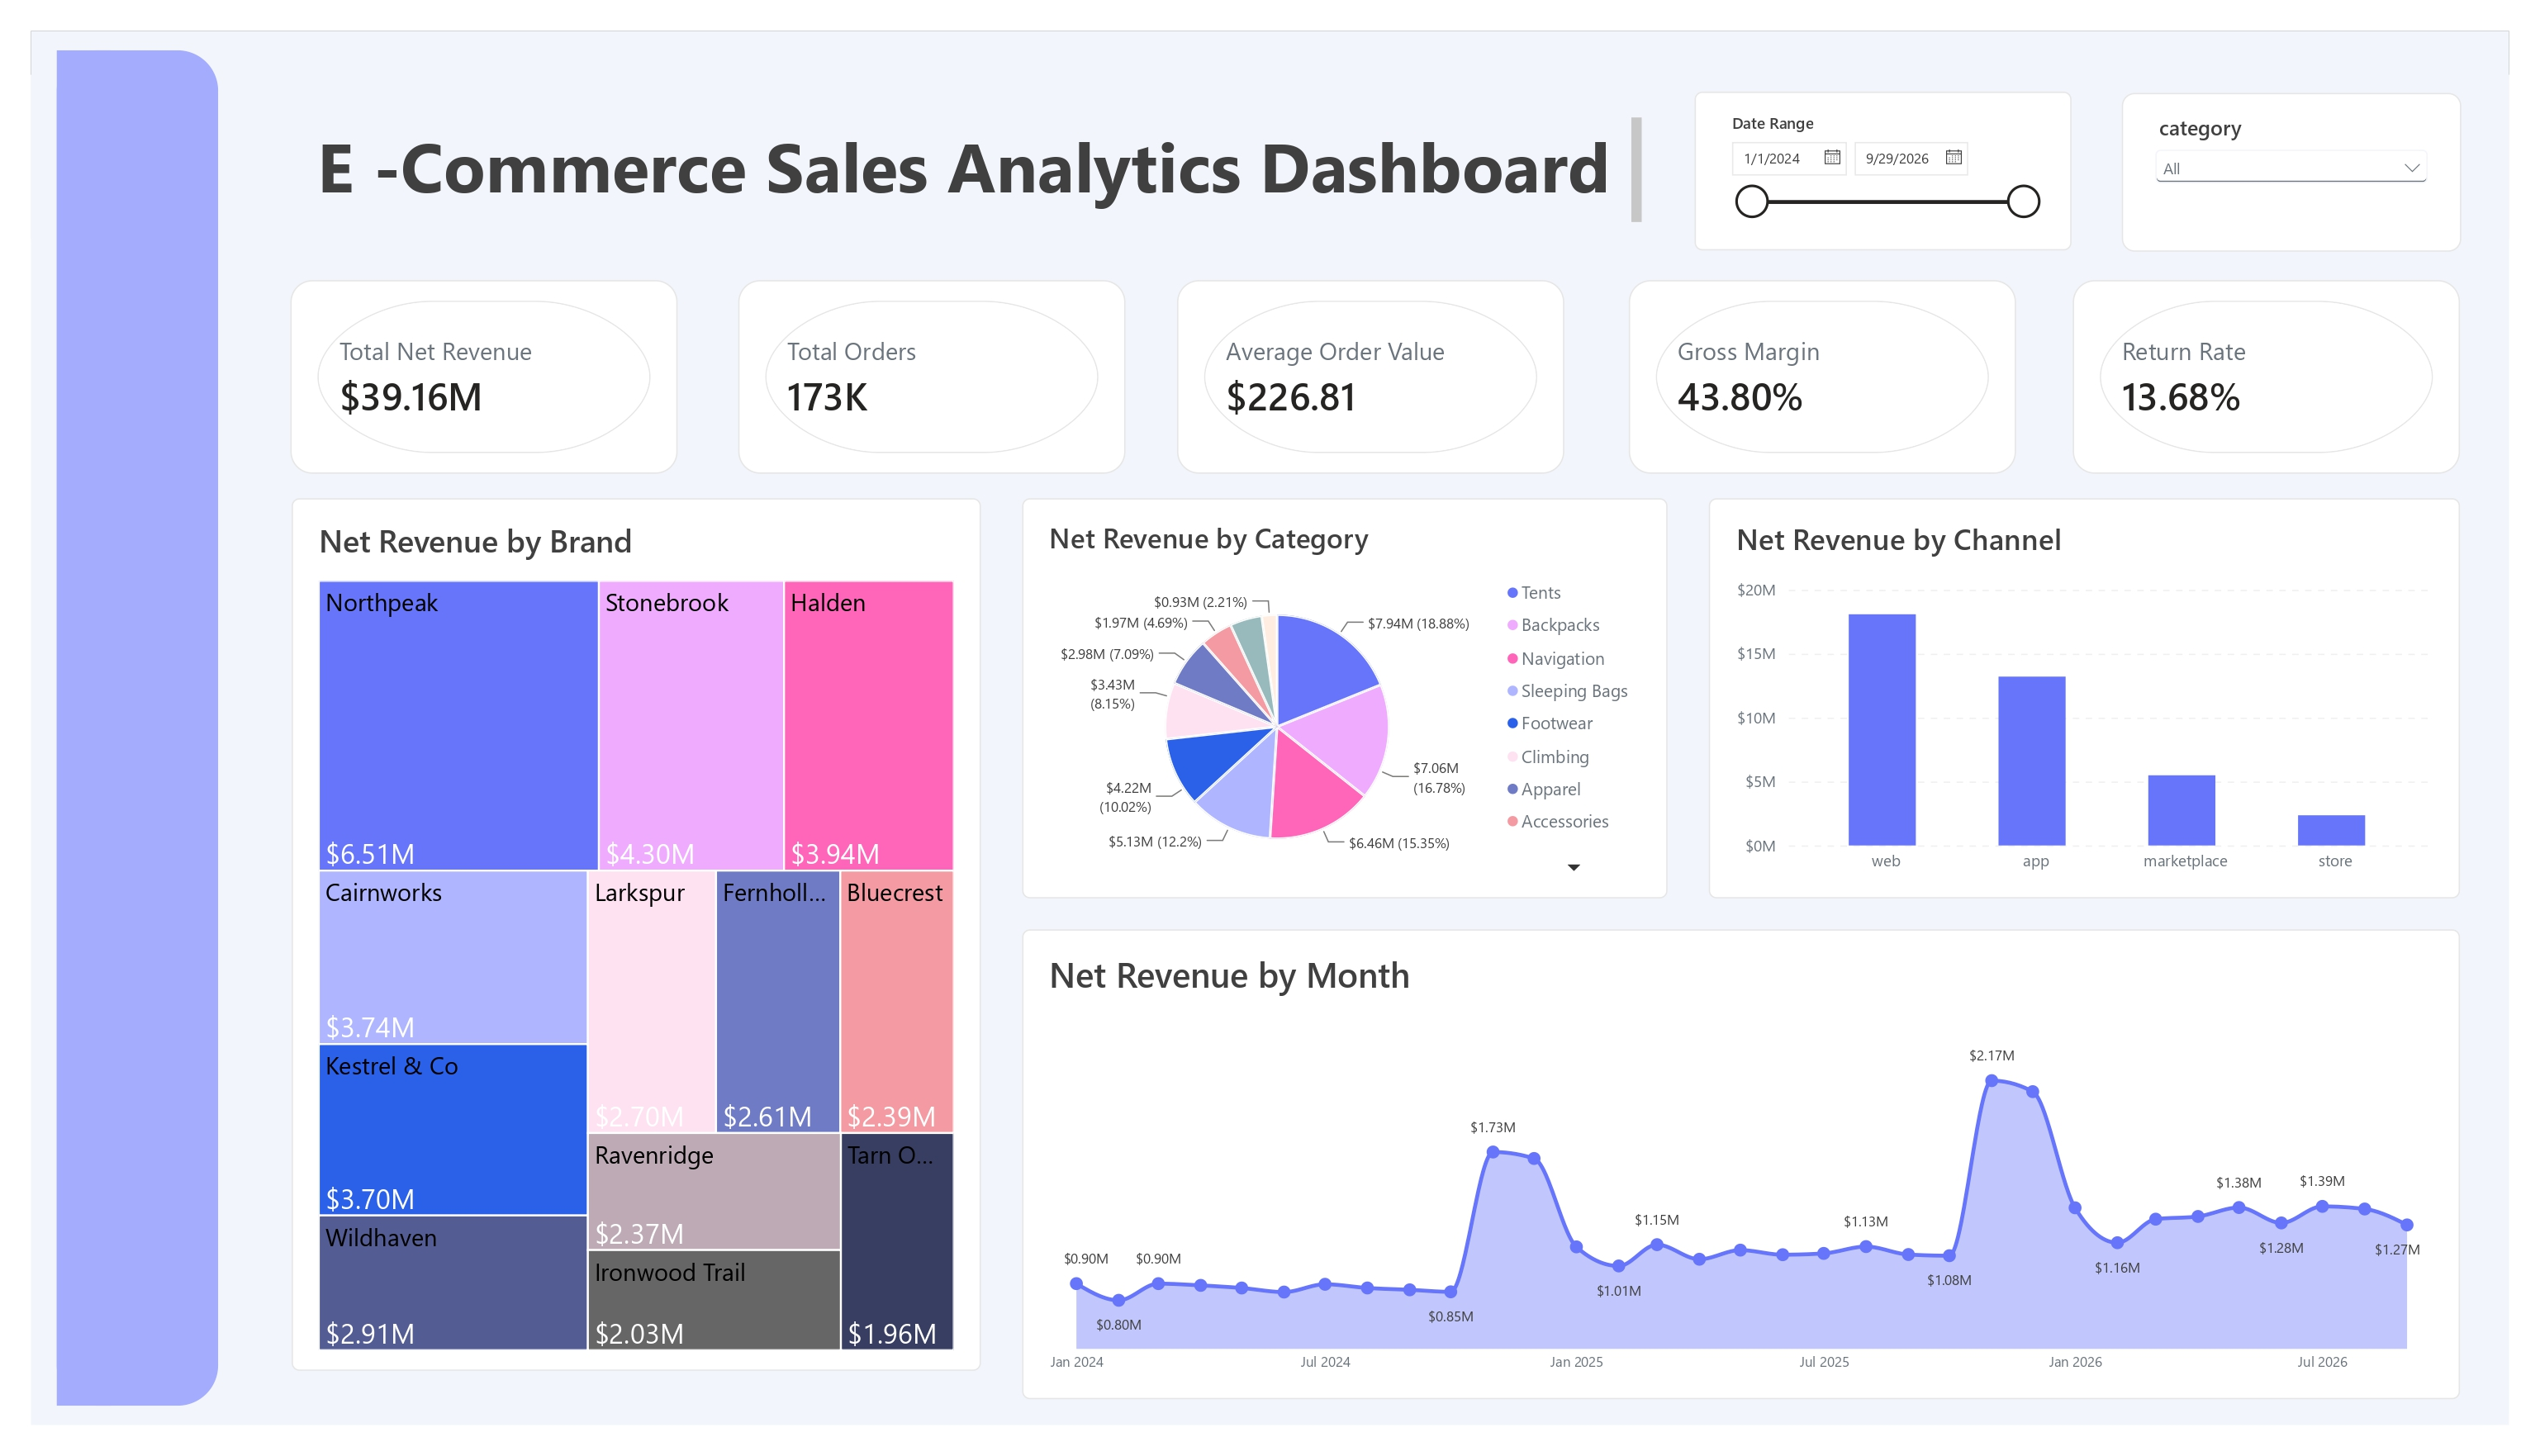

The dashboard page shown, as its layout file describes it:
{"tool":"powerbi","page":{"name":"Page 1","canvas":[1920,1080],"ordinal":0},"visuals":[{"type":"shape","box":[0,0,165,1080],"z":0},{"type":"slicer","fields":{"Values":["products.category"]},"box":[1620,48,262.9,122.9],"z":1000},{"type":"shape","box":[0,0,82,1080],"z":2000},{"type":"textbox","box":[202,52,1066,114],"z":3000},{"type":"cardVisual","fields":{"Data":["orders.net_product_revenue"]},"box":[201.4,192.5,300,150],"z":4000},{"type":"cardVisual","fields":{"Data":["orders.Total_orders"]},"box":[548.3,192.5,300,150],"z":5000},{"type":"cardVisual","fields":{"Data":["orders.average_order_val"]},"box":[888.3,192.5,300,150],"z":6000},{"type":"cardVisual","fields":{"Data":["orders.profit_margin"]},"box":[1238.3,192.5,300,150],"z":7000},{"type":"cardVisual","fields":{"Data":["orders.return_rate"]},"box":[1581.7,192.5,300,150],"z":8000},{"type":"slicer","fields":{"Values":["orders.order_date"]},"box":[1288.6,47.1,292.9,122.9],"z":9000},{"type":"lineChart","title":"Net Revenue by Month","fields":{"Category":["orders.order_date.Variation.Date Hierarchy.Year","orders.order_date.Variation.Date Hierarchy.Month"],"Y":["orders.net_product_revenue"]},"box":[768,696,1114,364],"z":10000},{"type":"treemap","title":"Net Revenue by Brand","fields":{"Group":["products.brand"],"Values":["orders.net_product_revenue"]},"box":[202,362,534,676],"z":11000},{"type":"pieChart","title":"Net Revenue by Category","fields":{"Category":["products.category"],"Y":["Sum(order_items.line_total)"]},"box":[768,362,500,310],"z":12000},{"type":"clusteredColumnChart","title":"Net Revenue by Channel","fields":{"Category":["orders.channel"],"Y":["orders.net_product_revenue"]},"box":[1300,362,582,310],"z":13000}]}

Visuals, with their boxes on the page's 1920x1080 design canvas (x1, y1, x2, y2). These are canvas units, not pixel positions in the 2540x1456 screenshot, which may show the page scaled, cropped or inside an application window:
shape: crop(0, 0, 165, 1080)
slicer - products.category: crop(1620, 48, 1883, 171)
shape: crop(0, 0, 82, 1080)
textbox: crop(202, 52, 1268, 166)
cardVisual - orders.net_product_revenue: crop(201, 192, 501, 342)
cardVisual - orders.Total_orders: crop(548, 192, 848, 342)
cardVisual - orders.average_order_val: crop(888, 192, 1188, 342)
cardVisual - orders.profit_margin: crop(1238, 192, 1538, 342)
cardVisual - orders.return_rate: crop(1582, 192, 1882, 342)
slicer - orders.order_date: crop(1289, 47, 1582, 170)
"Net Revenue by Month" lineChart: crop(768, 696, 1882, 1060)
"Net Revenue by Brand" treemap: crop(202, 362, 736, 1038)
"Net Revenue by Category" pieChart: crop(768, 362, 1268, 672)
"Net Revenue by Channel" clusteredColumnChart: crop(1300, 362, 1882, 672)
